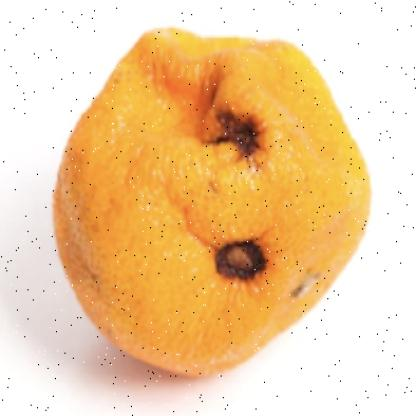rotten: (52, 26, 374, 386)
